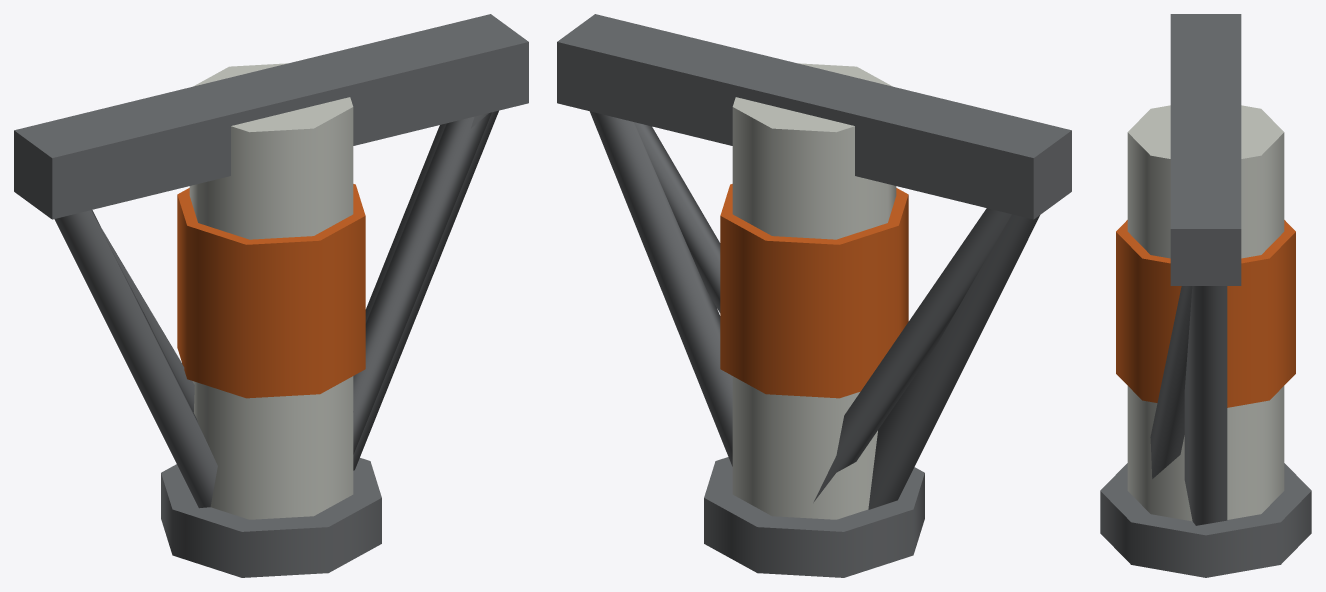
Rendered from po4_leg.obj.
3 views of the same model, side by side, from view 1: azimuth 30°, elevation 25°; view 2: azimuth 150°, elevation 25°; view 3: azimuth 270°, elevation 25° (orthographic). The views are drawn at different scales.
Visible parts, largest first — view 1: po4_leg; view 2: po4_leg; view 3: po4_leg.
Boxes of the visible parts, left/top/right/bottom form: po4_leg: left=14, top=14, right=528, bottom=577; po4_leg: left=557, top=14, right=1071, bottom=577; po4_leg: left=1100, top=14, right=1311, bottom=577.
Size of the model in its own units: 1.3 by 1.16 by 0.54.
